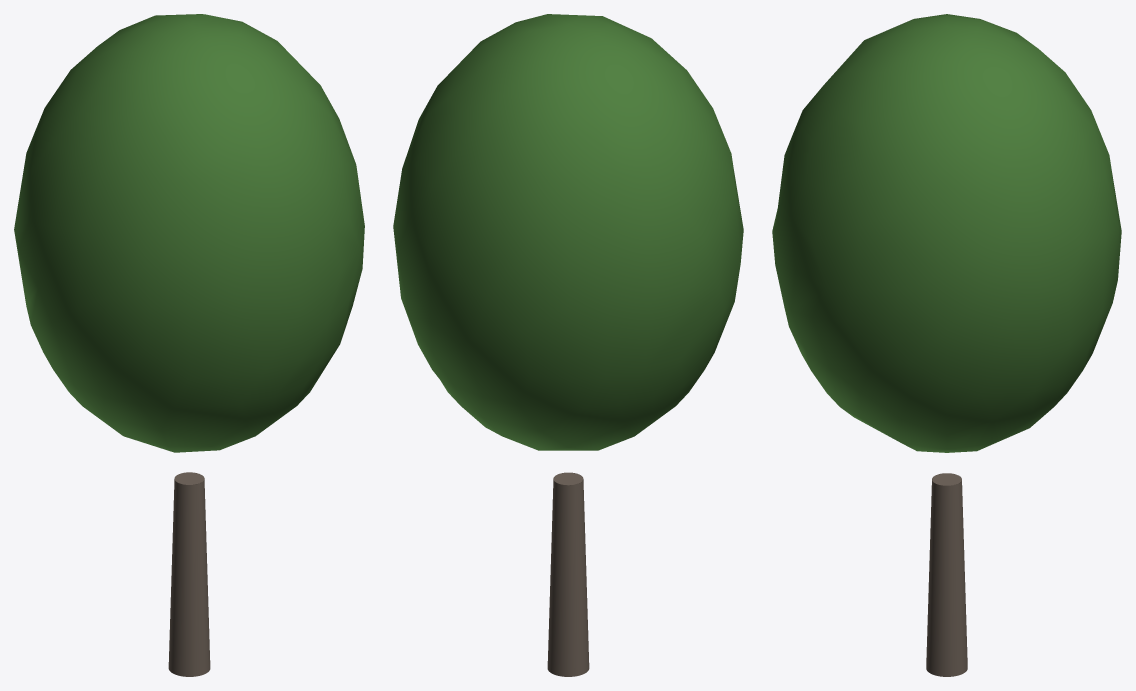
File: e05-red-maple.lod1.glb
3 views of the same model, side by side, from view 1: azimuth 30°, elevation 25°; view 2: azimuth 150°, elevation 25°; view 3: azimuth 270°, elevation 25° (orthographic).
Parts seen in each view (by area): view 1: part1, part0; view 2: part1, part0; view 3: part1, part0.
Boxes of the visible parts, x1=… form: part1: x1=14, y1=14, x2=364, y2=452; part0: x1=168, y1=472, x2=210, y2=676; part1: x1=393, y1=14, x2=743, y2=450; part0: x1=547, y1=472, x2=589, y2=676; part1: x1=772, y1=14, x2=1121, y2=452; part0: x1=926, y1=473, x2=967, y2=676.
Bounding box in the file's own units: 8359 × 17000 × 8394.
